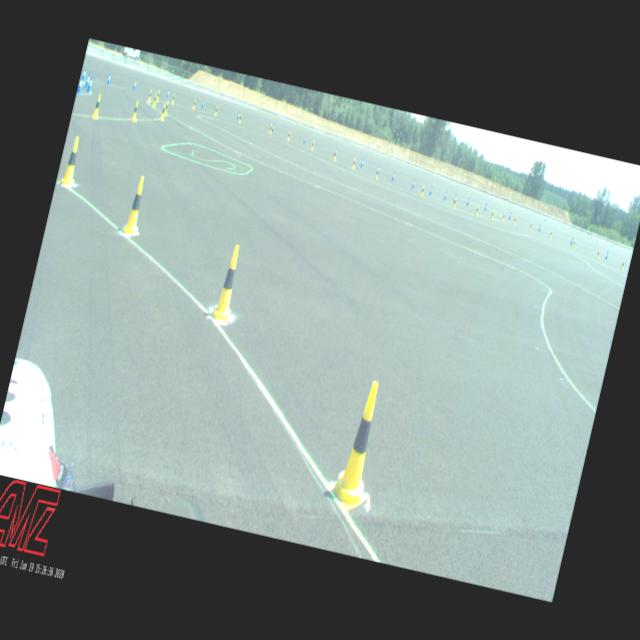blue_cone: (76, 76, 85, 92), (87, 76, 94, 92), (81, 67, 87, 82), (84, 73, 90, 87), (106, 72, 112, 84), (132, 80, 138, 90), (410, 179, 416, 189), (376, 164, 380, 176), (443, 190, 447, 200), (333, 146, 337, 156), (453, 192, 457, 202), (166, 89, 170, 98), (508, 211, 512, 220), (466, 197, 470, 206), (271, 123, 275, 132), (236, 112, 240, 120), (484, 202, 488, 210), (428, 186, 432, 194), (200, 100, 204, 108), (538, 224, 542, 232), (392, 172, 396, 180), (604, 252, 608, 260), (360, 158, 363, 168), (570, 236, 573, 244), (304, 134, 306, 144)
yellow_cone: (329, 377, 391, 512), (211, 244, 245, 322), (122, 174, 150, 234), (60, 136, 83, 186), (91, 94, 103, 118), (130, 100, 140, 120), (160, 102, 167, 120), (151, 92, 158, 106), (164, 100, 169, 116), (146, 90, 152, 102), (451, 196, 457, 208), (420, 184, 425, 196), (474, 205, 479, 215), (489, 210, 494, 219), (171, 94, 175, 105), (375, 168, 379, 179), (156, 90, 160, 100), (192, 98, 196, 108), (352, 158, 356, 168), (310, 140, 314, 150), (268, 124, 272, 134), (286, 130, 290, 140), (333, 150, 337, 160), (548, 228, 552, 238), (620, 260, 624, 269), (528, 222, 532, 230), (238, 114, 242, 122), (214, 106, 218, 114), (501, 212, 505, 220), (596, 250, 600, 258), (572, 238, 576, 246), (513, 216, 516, 224)
